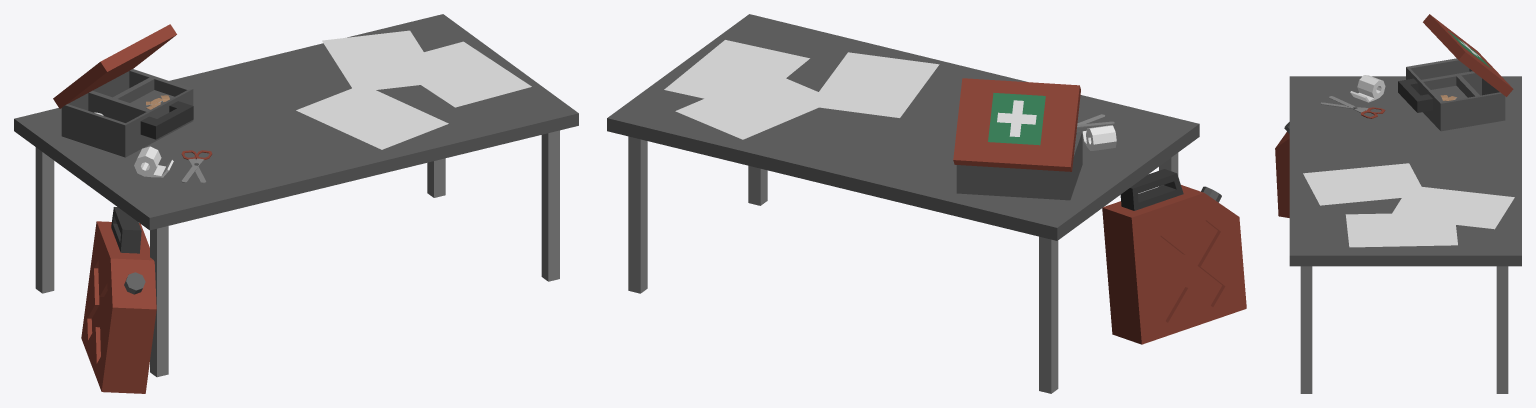
The model's file is medistation.fbx.
3 renders of one model, left to right at view 1: azimuth 30°, elevation 25°; view 2: azimuth 150°, elevation 25°; view 3: azimuth 270°, elevation 25°, orthographic. The views are drawn at different scales.
Visible parts, largest first — view 1: Cube.009; view 2: Cube.009; view 3: Cube.009.
Part boxes in pixels (x1=…): Cube.009: x1=14, y1=14, x2=578, y2=393; Cube.009: x1=607, y1=14, x2=1246, y2=393; Cube.009: x1=1275, y1=14, x2=1521, y2=393.
Size of the model in its own units: 309 by 160 by 162.
